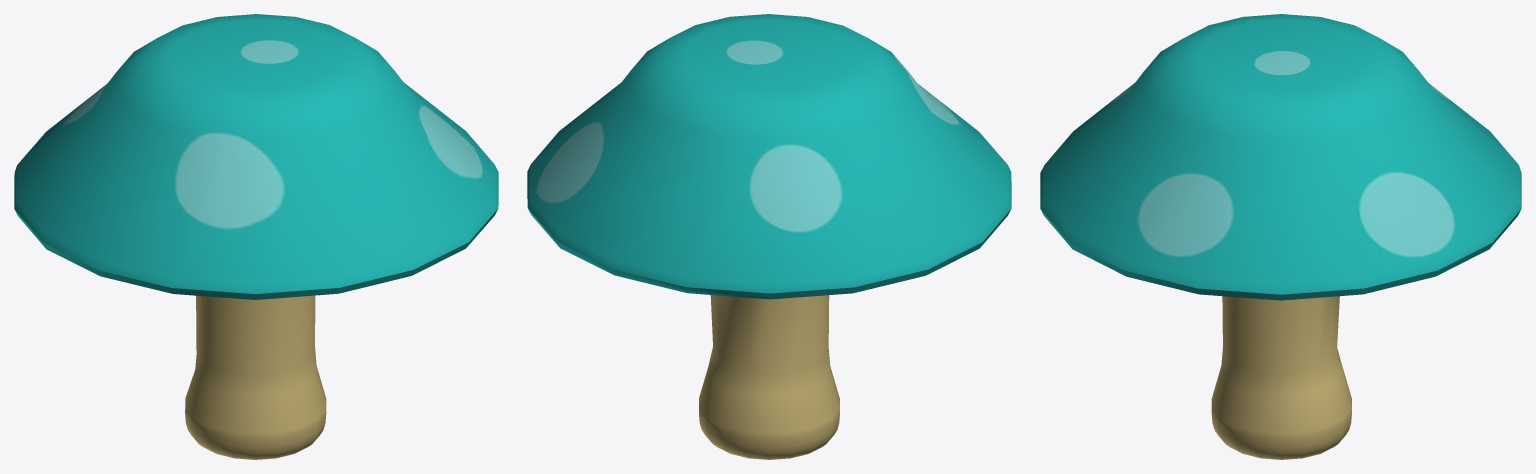
Rendered from Mushroom 1.fbx.
3 views of the same model, side by side, from view 1: azimuth 30°, elevation 25°; view 2: azimuth 150°, elevation 25°; view 3: azimuth 270°, elevation 25° (orthographic).
Parts seen in each view (by area): view 1: Cylinder001; view 2: Cylinder001; view 3: Cylinder001.
Boxes of the visible parts, left/top/right/bottom form: Cylinder001: left=14, top=14, right=498, bottom=459; Cylinder001: left=527, top=14, right=1011, bottom=459; Cylinder001: left=1040, top=14, right=1521, bottom=459.
Bounding box in the file's own units: 30.17 × 25.81 × 29.5.
1 material, 1 textured.
